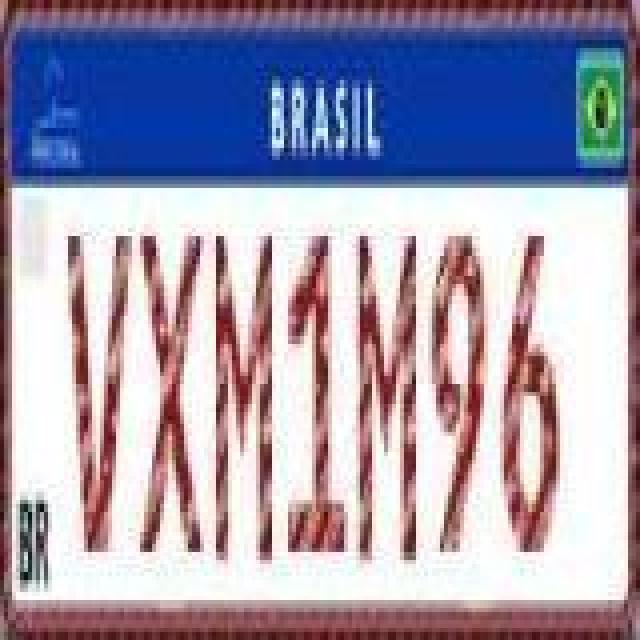1: (282, 220, 350, 556)
6: (496, 220, 560, 564)
9: (424, 224, 488, 560)
M: (212, 232, 276, 568), (356, 224, 420, 560)
V: (66, 224, 134, 560)
X: (138, 230, 206, 554)
